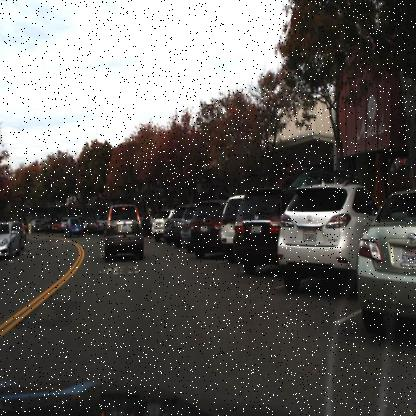car: (273, 178, 365, 296), (358, 188, 416, 340), (232, 184, 282, 276), (100, 201, 146, 263), (187, 197, 223, 257), (219, 191, 243, 265), (0, 218, 27, 262), (62, 214, 87, 242), (164, 216, 172, 242)
